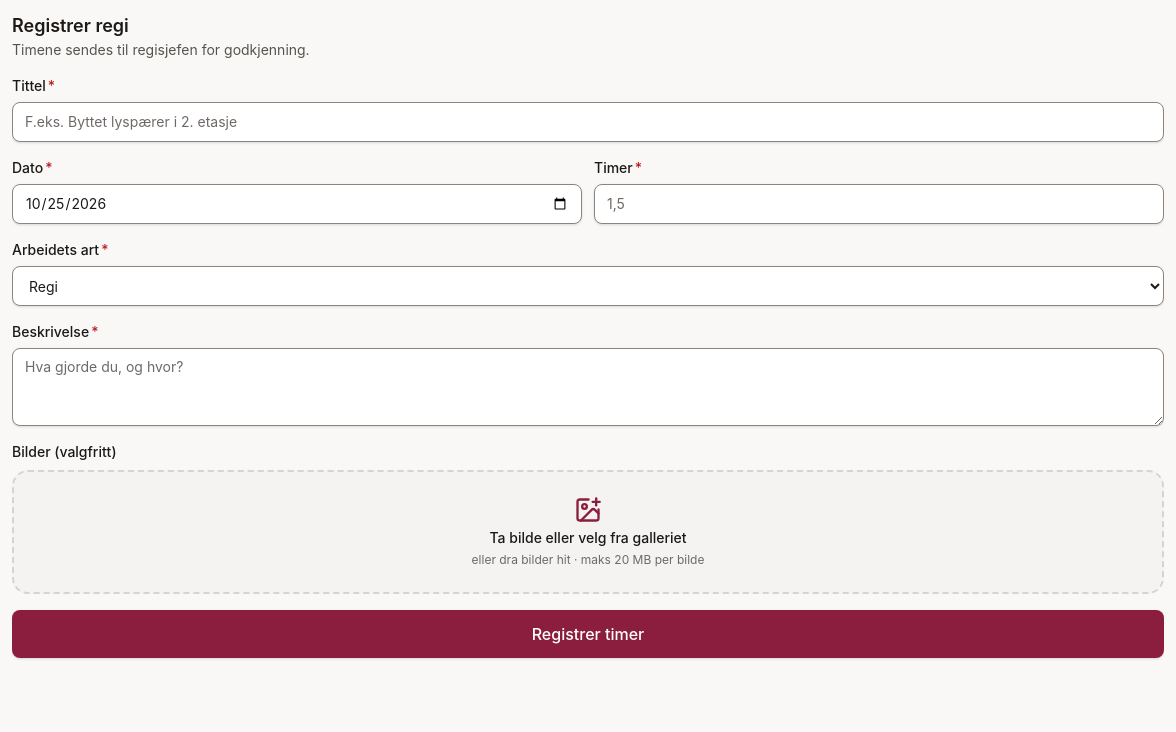
WorkLogForm › defaults the date to today's date in Oslo and blocks future dates
This screenshot has width=1176, height=732.
Type "Måkte snø" into the field labelled "Tittel*" at (588, 122), box [12,102,1164,142]
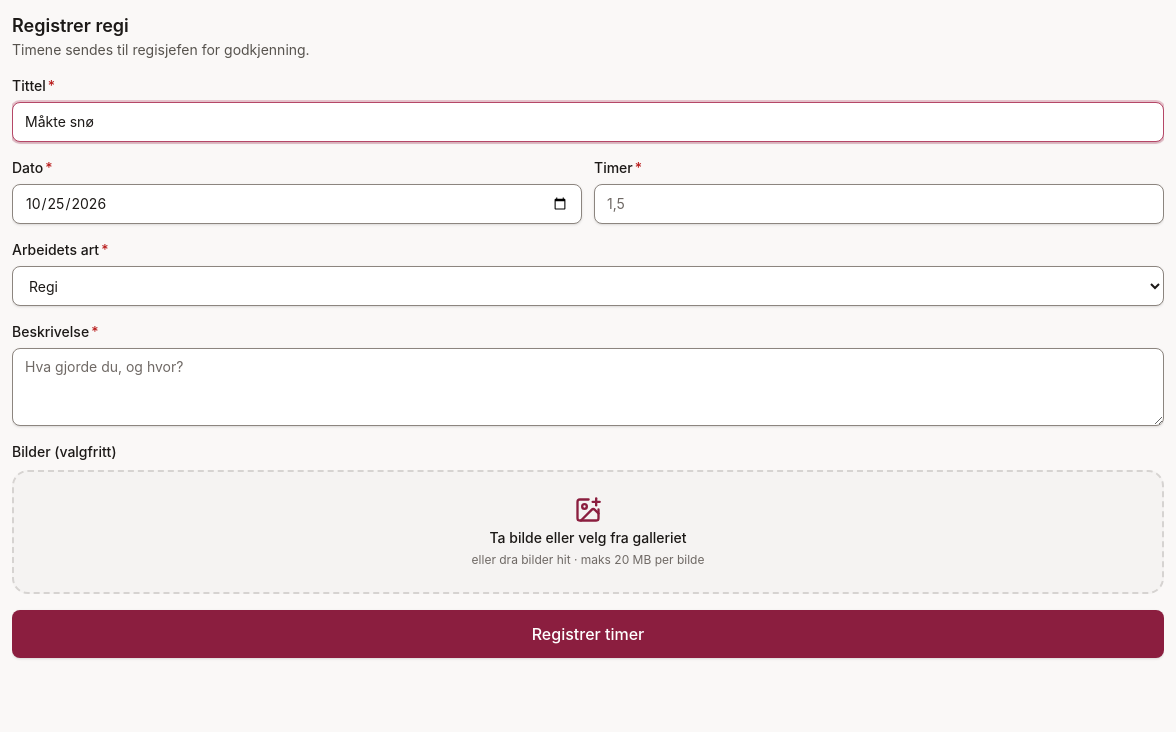
Type "1" into the number field labelled "Timer*" at (879, 204), box [594,184,1164,224]
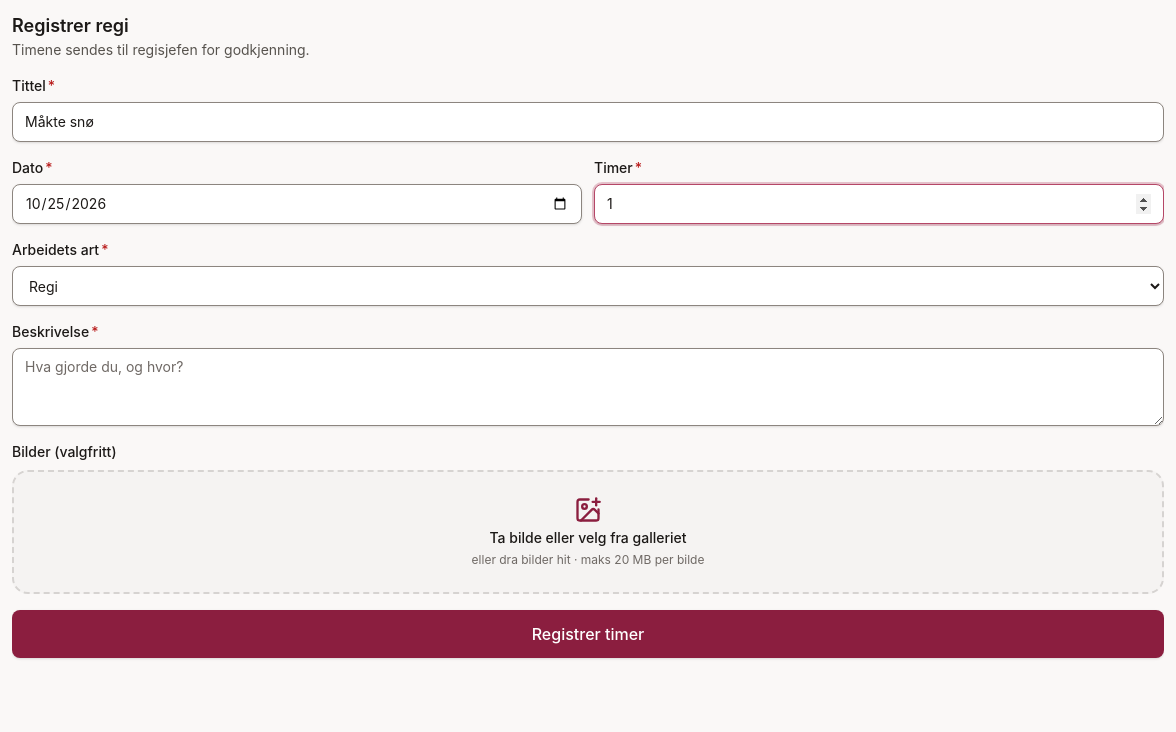
Type "Foran inngangen" into the text box labelled "Beskrivelse*" at (588, 387), box [12,348,1164,426]
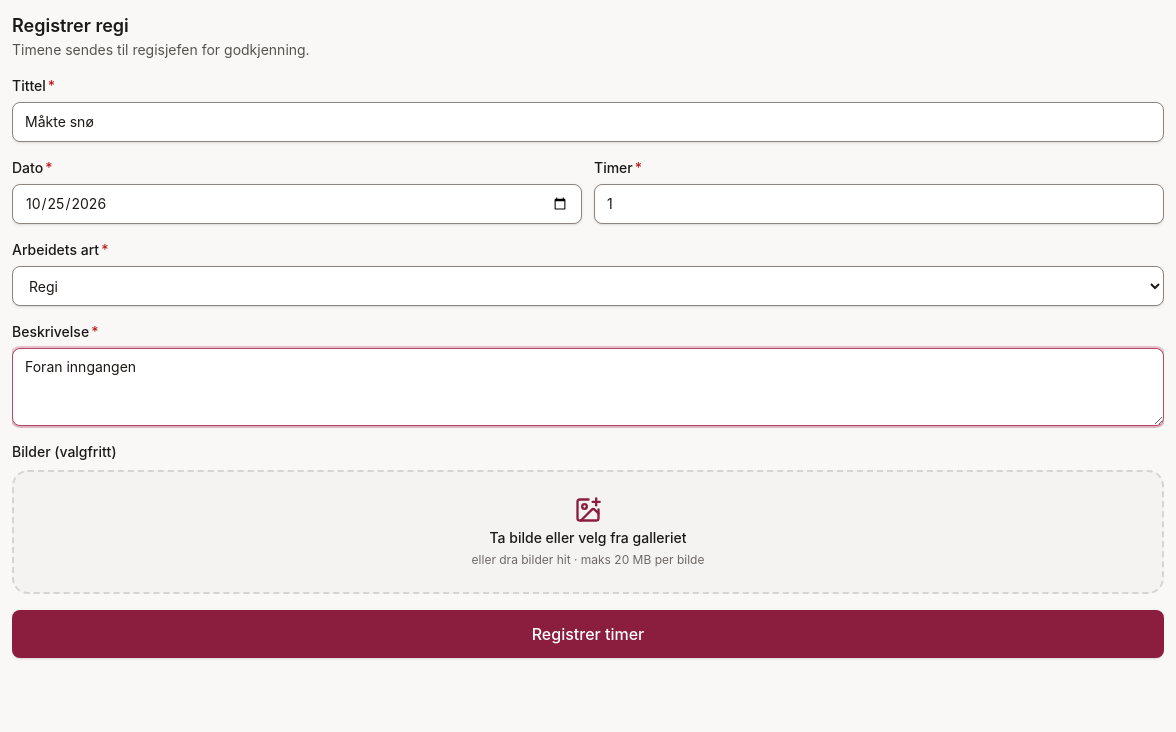
Type "2099-01-01" into the date field labelled "Dato*" at (297, 204), box [12,184,582,224]
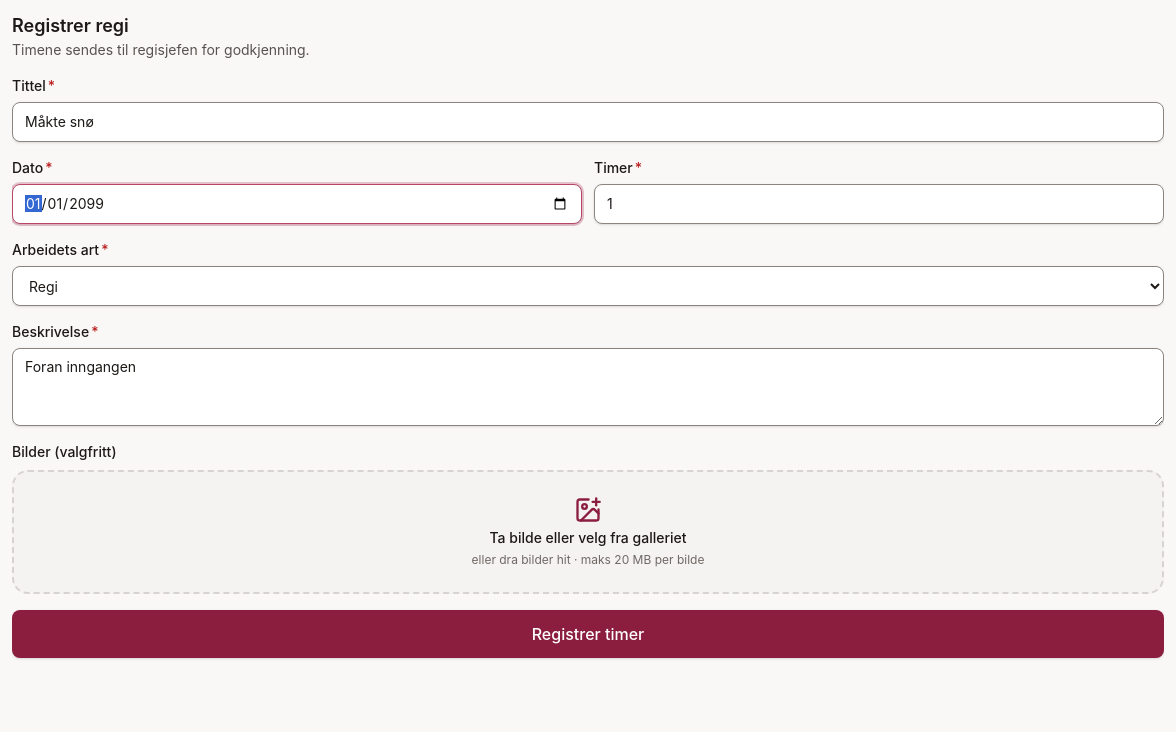
Click the button "Registrer timer" at (588, 634), box [12,610,1164,658]
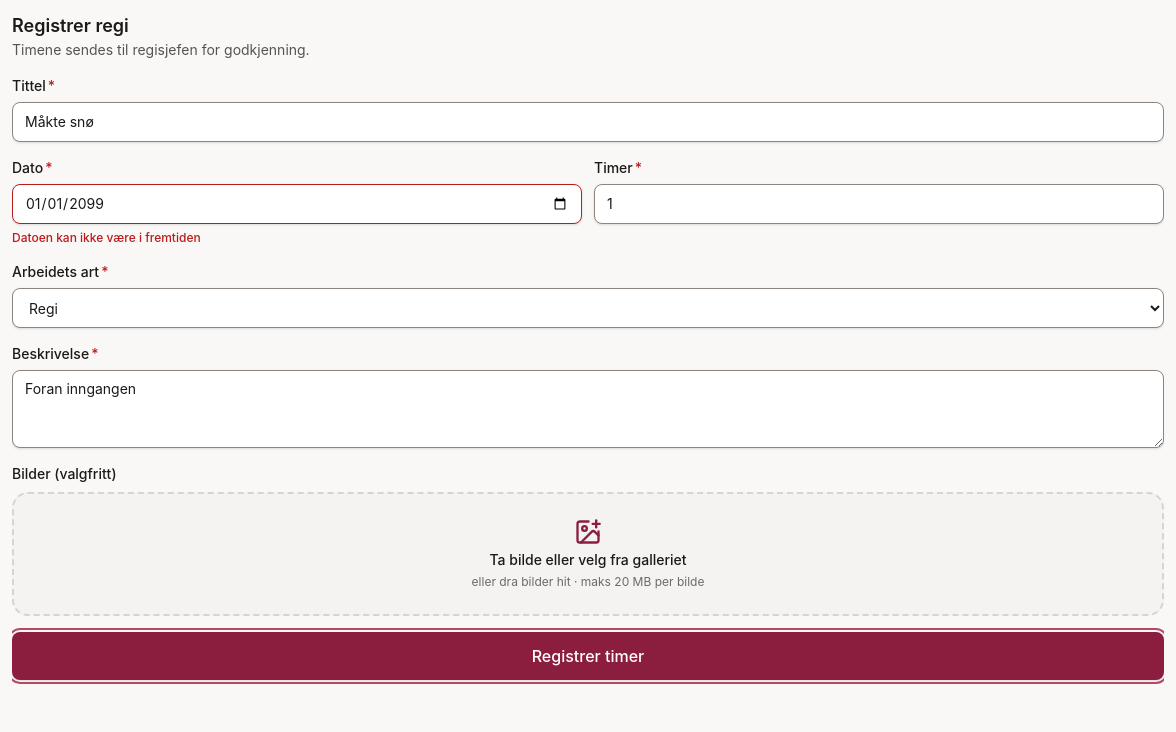
Now the text "Datoen kan ikke være i fremtiden" is shown, box [12,230,201,245]
